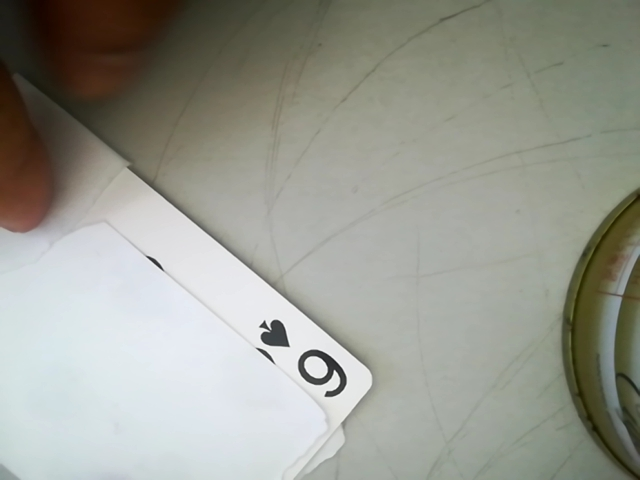ht 6: (243, 311, 359, 411)
